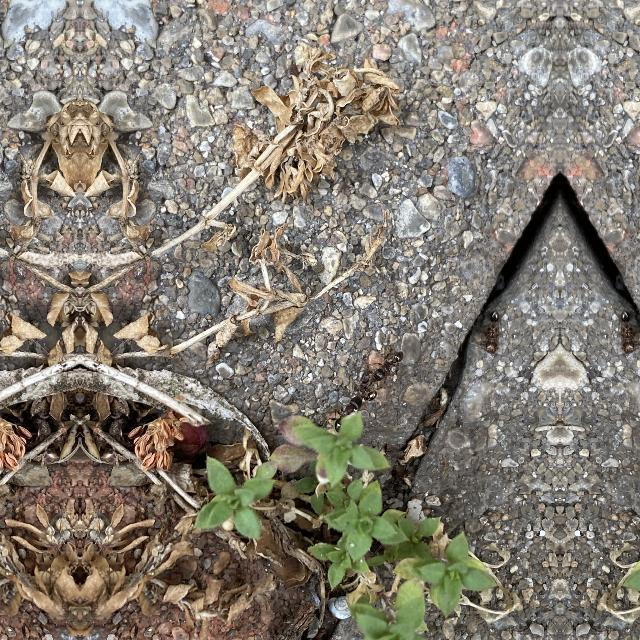Tetramorium: (334, 393, 364, 435), (480, 308, 506, 356), (614, 308, 640, 356), (379, 348, 411, 380)
